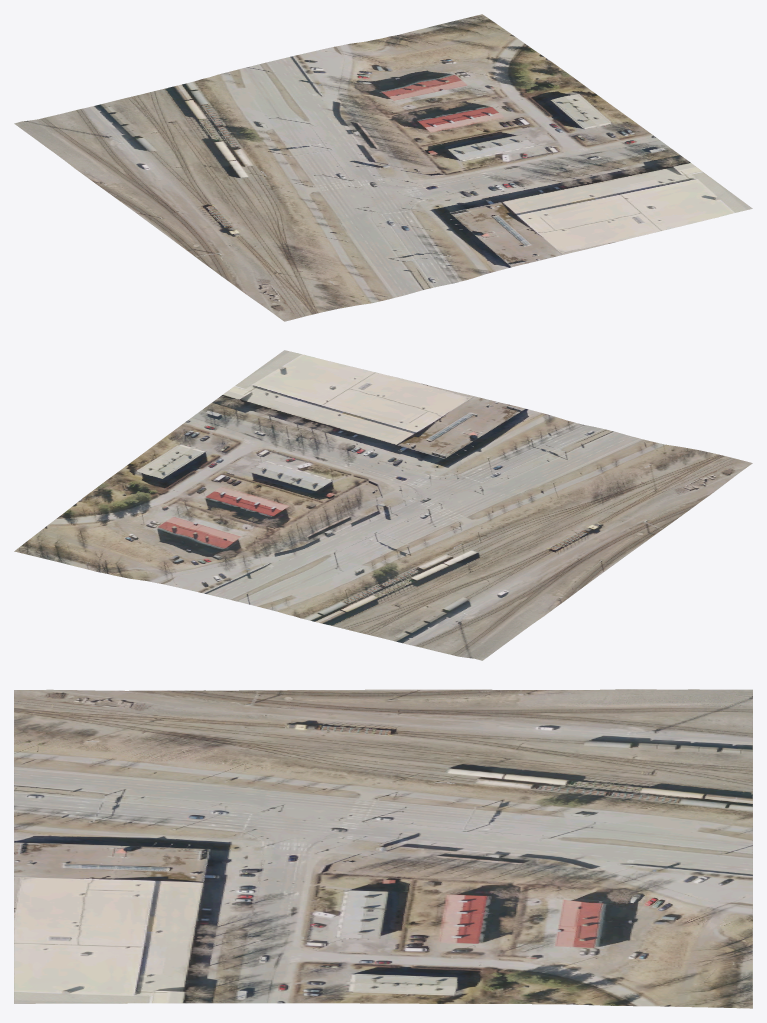
The model's file is CM_Terrain_24488001_6819180.fbx.
The picture shows the model from 3 angles, top to bottom: view 1: azimuth 30°, elevation 25°; view 2: azimuth 150°, elevation 25°; view 3: azimuth 270°, elevation 25°; orthographic projection. The views are drawn at different scales.
Visible parts, largest first — view 1: CM_Terrain_24488001_6819180_LOD0; view 2: CM_Terrain_24488001_6819180_LOD0; view 3: CM_Terrain_24488001_6819180_LOD0.
Part boxes in pixels (left/top/right/bottom): CM_Terrain_24488001_6819180_LOD0: left=14, top=14, right=752, bottom=321; CM_Terrain_24488001_6819180_LOD0: left=14, top=350, right=752, bottom=660; CM_Terrain_24488001_6819180_LOD0: left=14, top=689, right=752, bottom=1008.
Size of what is drawn, in the model's own units: 205 by 2.43 by 205.
